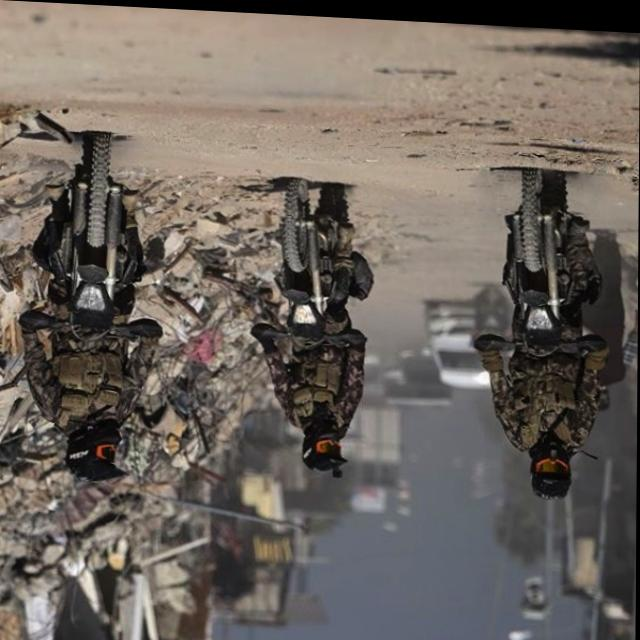poh_personel: (21, 176, 154, 483), (479, 209, 611, 497), (253, 217, 366, 471)
